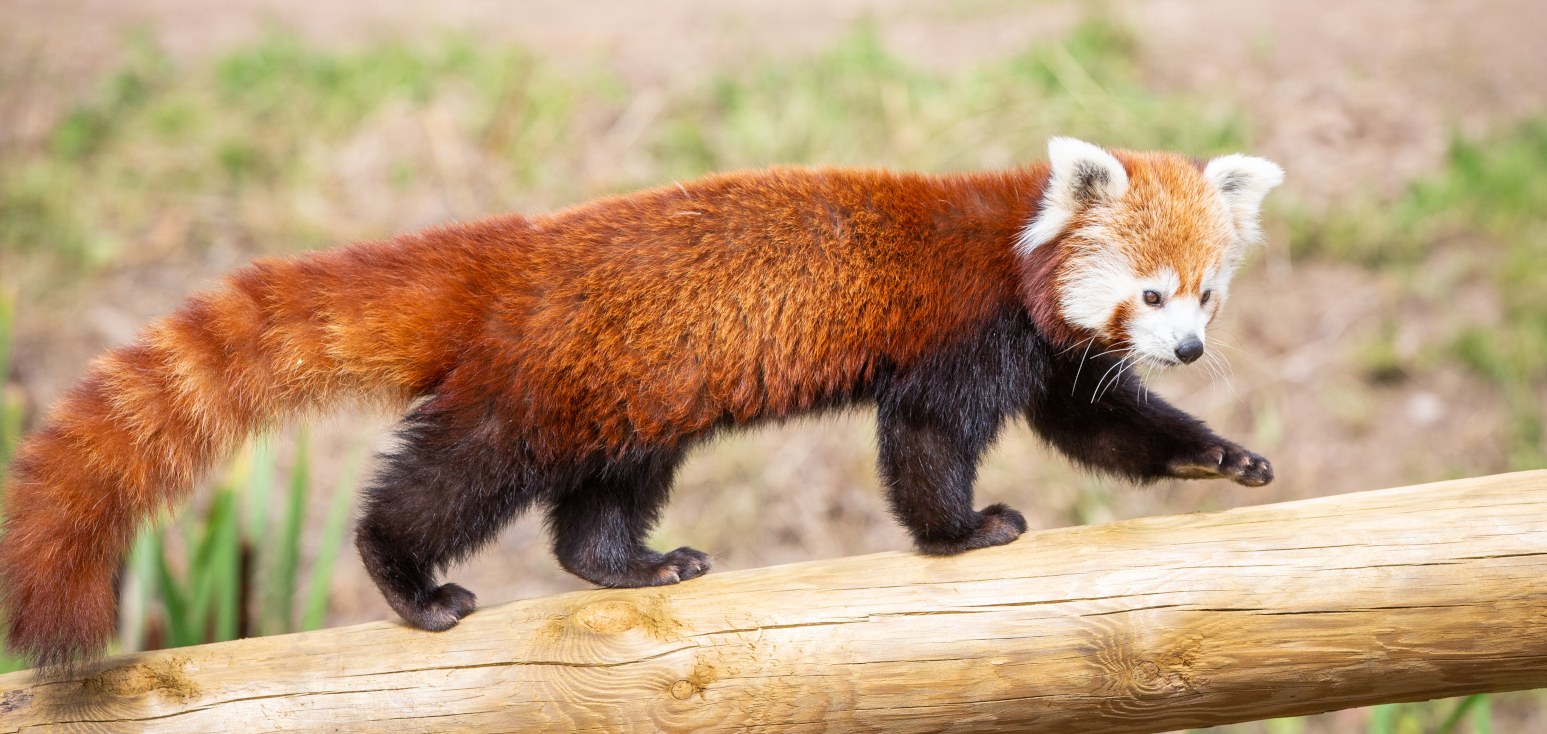Red panda: (1016, 132, 1285, 364)
